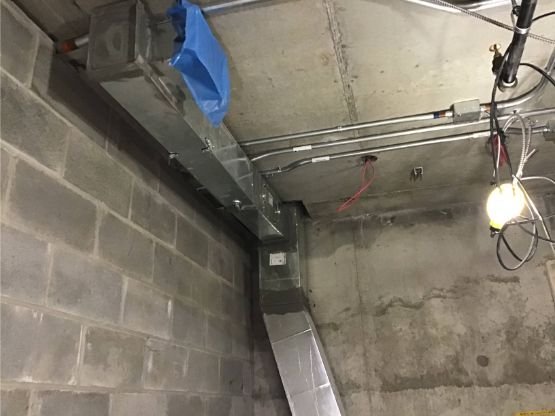Duct: (73, 1, 303, 240), (244, 187, 357, 416)
